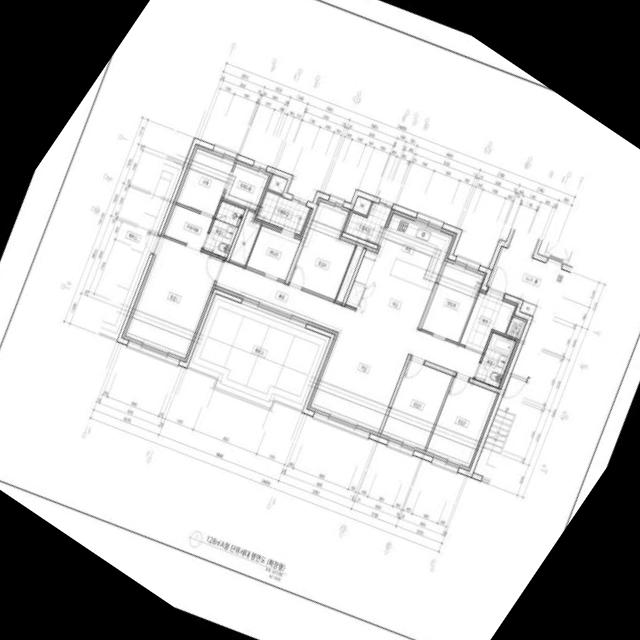background: (0, 0, 640, 640)
space_bedroom: (122, 237, 222, 362), (425, 377, 499, 470), (289, 197, 356, 299), (380, 359, 452, 453)
space_dressroom: (223, 160, 272, 211), (162, 203, 212, 248)
space_elevator_hall: (486, 229, 570, 377)
space_front: (460, 289, 518, 354)
space_kitchen: (345, 209, 456, 333)
space_living_room: (214, 261, 482, 435)
space_multipurpose_space: (257, 191, 310, 234), (345, 202, 391, 244)
space_other: (421, 259, 486, 342), (174, 144, 234, 216), (246, 223, 301, 280), (336, 242, 364, 303), (230, 210, 261, 265), (506, 315, 527, 339), (268, 174, 287, 193), (353, 196, 371, 215), (520, 301, 536, 315)
space_toilet: (203, 200, 245, 258), (475, 332, 515, 387)
